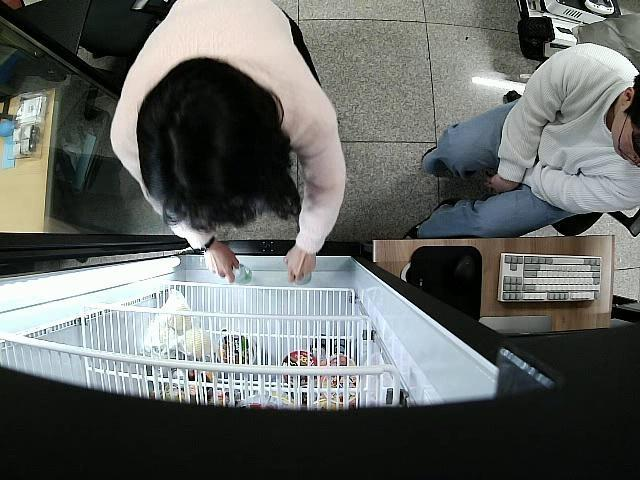18_trevi: (229, 262, 252, 284), (294, 270, 312, 289)
